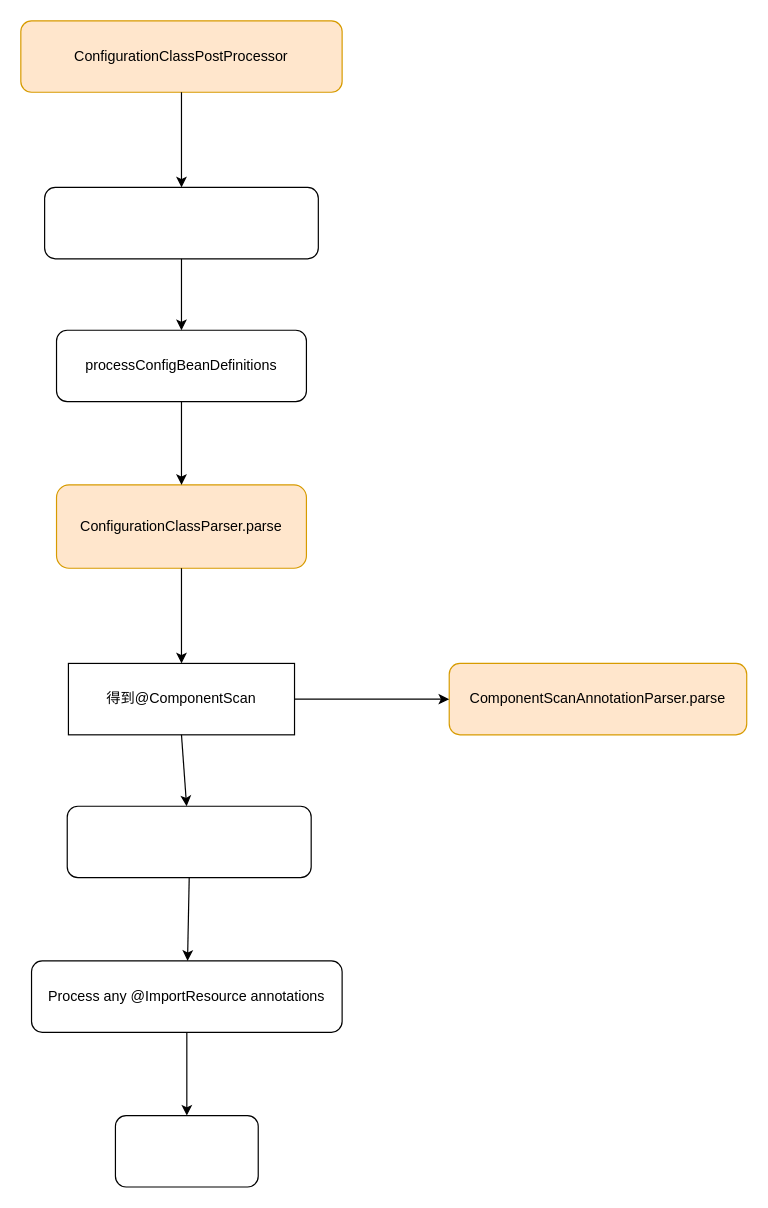
This 768x1208 diagram has some shape labels left out. Each missing label, with the box of its shape:
postProcessBeanDefinitionRegistry: (43, 186, 318, 259)
Process any @Import annotations: (66, 805, 311, 878)
处理@Bean: (114, 1114, 258, 1187)
